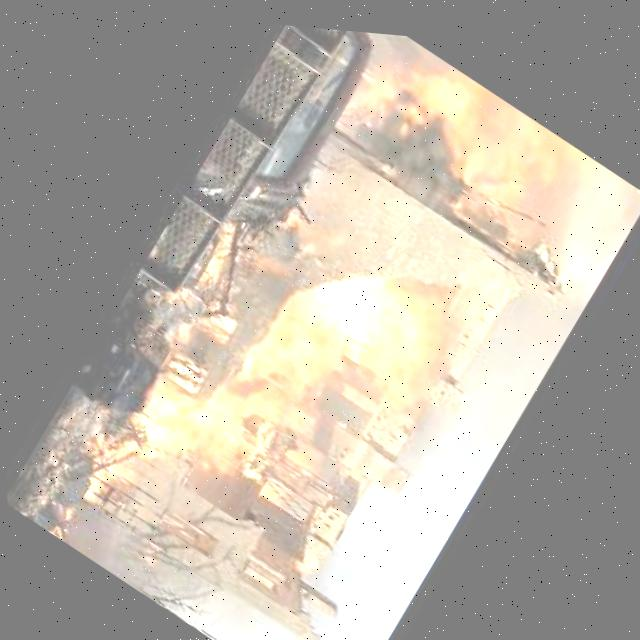Fire: (78, 5, 595, 640)
